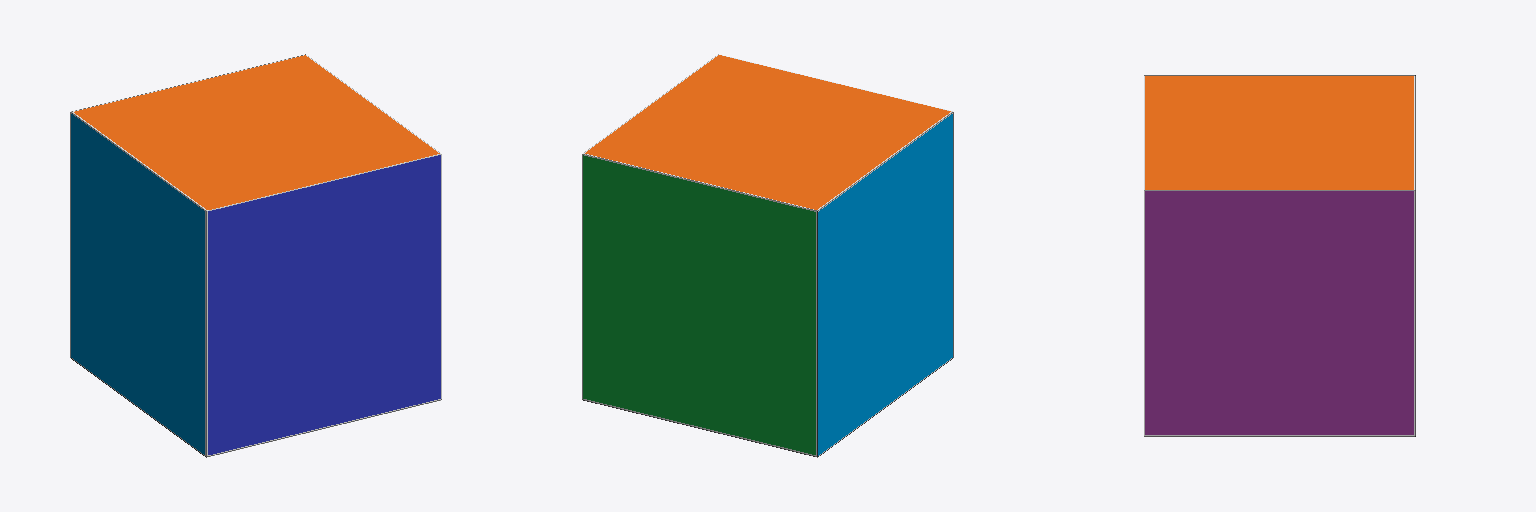
The picture shows the model from 3 angles: view 1: azimuth 30°, elevation 25°; view 2: azimuth 150°, elevation 25°; view 3: azimuth 270°, elevation 25°; orthographic projection.
Visible parts, largest first — view 1: Cube; view 2: Cube; view 3: Cube.
Part boxes in pixels (x1,y1,x2,y2): Cube: (70, 54, 441, 457); Cube: (582, 54, 953, 457); Cube: (1144, 75, 1415, 436).
Bounding box in the file's own units: 2 × 2 × 2.
Materials: 1 (1 with a texture image).